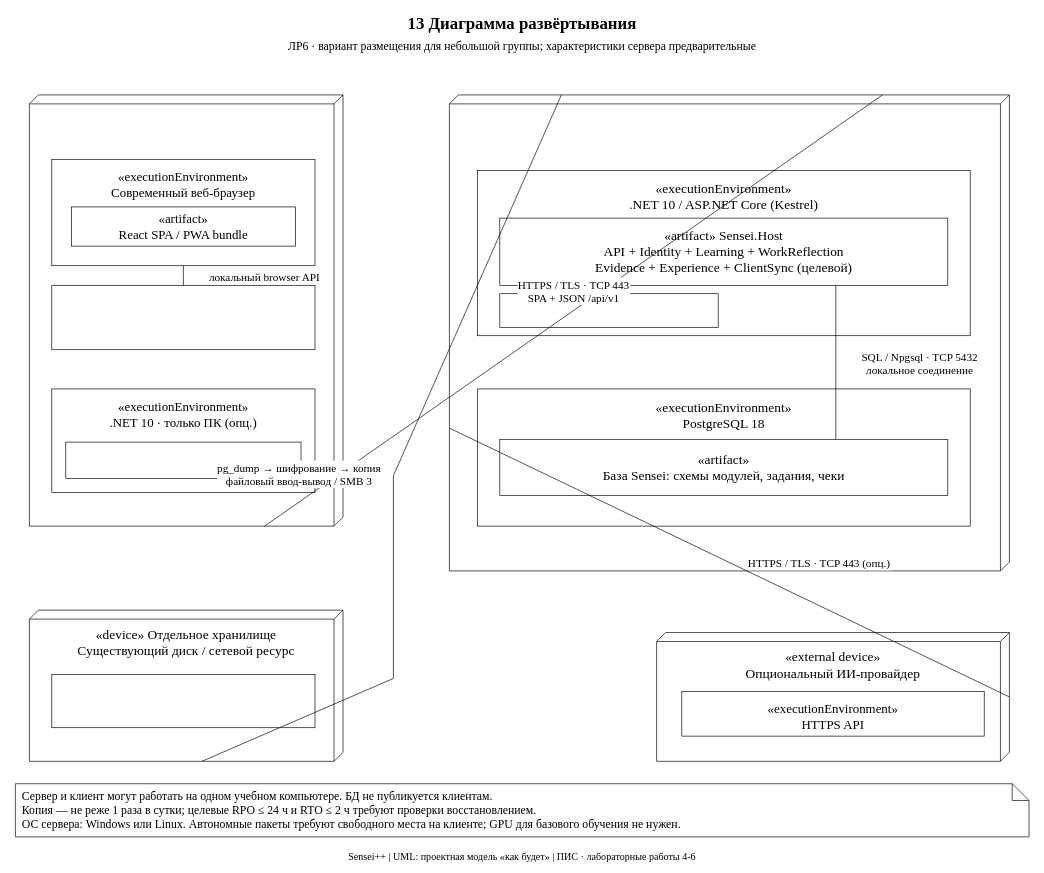
Some shapes in this 1044 by 873 pixel diagram are drawn without their labels. Here are the shapes that lost their labels. From the top down, the box of each, then its label:
(51, 285, 315, 350): «executionEnvironment» IndexedDB / Cache Storage
(29, 94, 343, 526): «device» Компьютер / смартфон пользователя
(499, 293, 718, 327): «artifact» Статический клиент (wwwroot)
(449, 94, 1009, 571): «device» Сервер приложений и БД 4 ядра · 16 ГБ RAM · ≥20 ГБ свободно
(65, 442, 301, 479): «artifact» Sensei.LocalAgent
(51, 674, 315, 728): «artifact» Зашифрованная резервная копия
